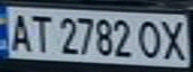2: (54, 13, 78, 55), (112, 16, 136, 58)
7: (75, 15, 96, 55)
8: (93, 16, 115, 57)
A: (3, 10, 33, 53)
O: (133, 17, 166, 61)
T: (24, 11, 54, 54)
X: (157, 17, 190, 62)
